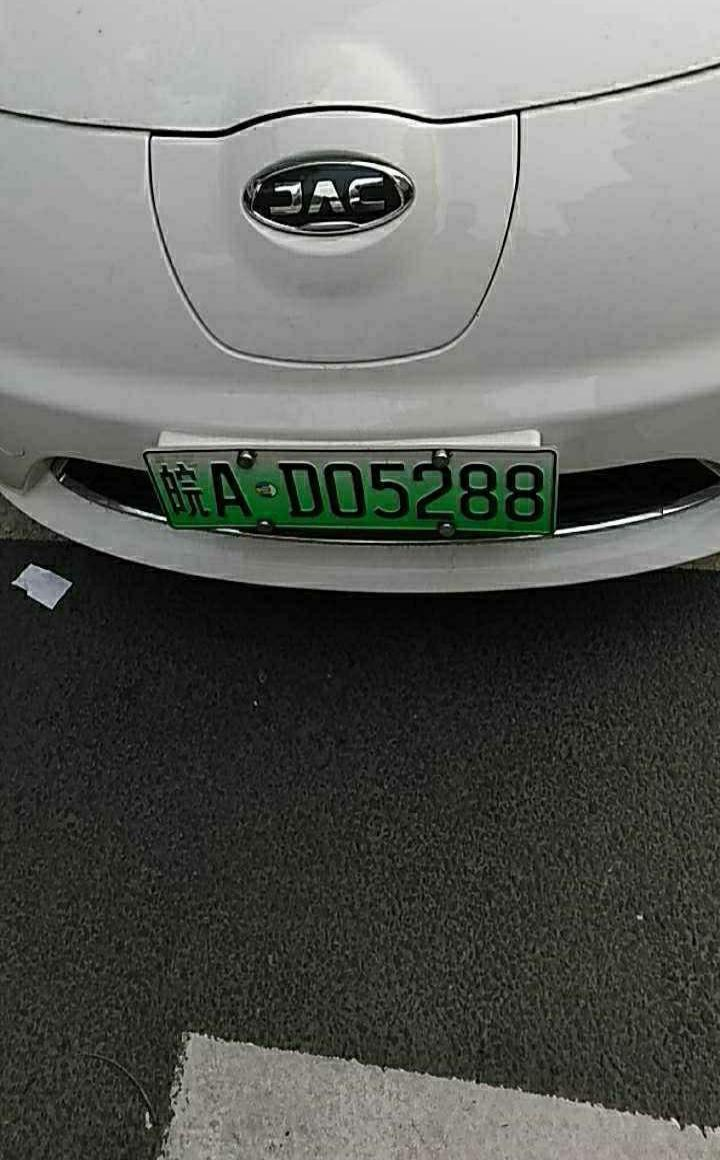car_id: (141, 447, 555, 534)
